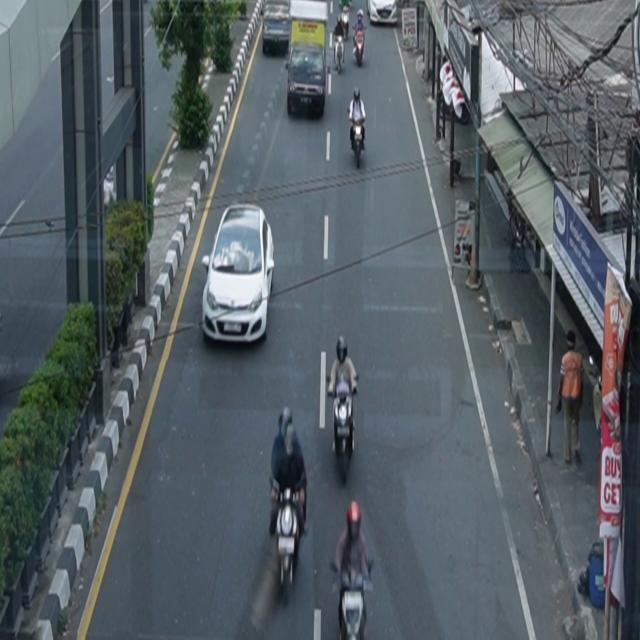car: (203, 203, 276, 345), (286, 41, 327, 119), (367, 1, 398, 26)
